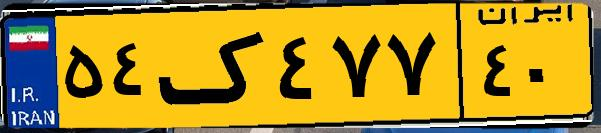0: (525, 38, 570, 115)
4: (270, 28, 330, 110), (475, 38, 525, 113), (110, 28, 158, 98)
5: (57, 26, 110, 100)
7: (385, 28, 445, 110), (330, 28, 385, 110)
ک: (158, 12, 270, 120)
